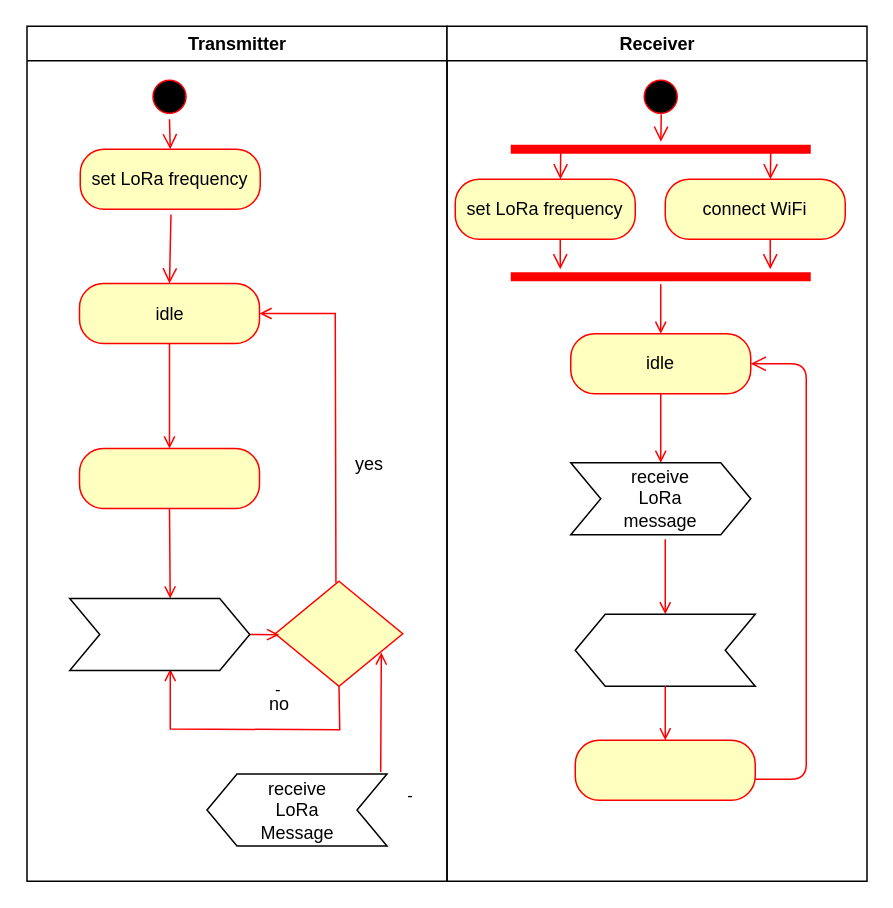
Image size: 893x908. Some labels were removed from this diagram. Each missing label, with the centre of its shape:
detect weight on scale: (169,477)
received LoRa answer: (338,633)
send LoRa answer: (664,649)
send LoRa message: (159,633)
send Slack message: (664,769)
